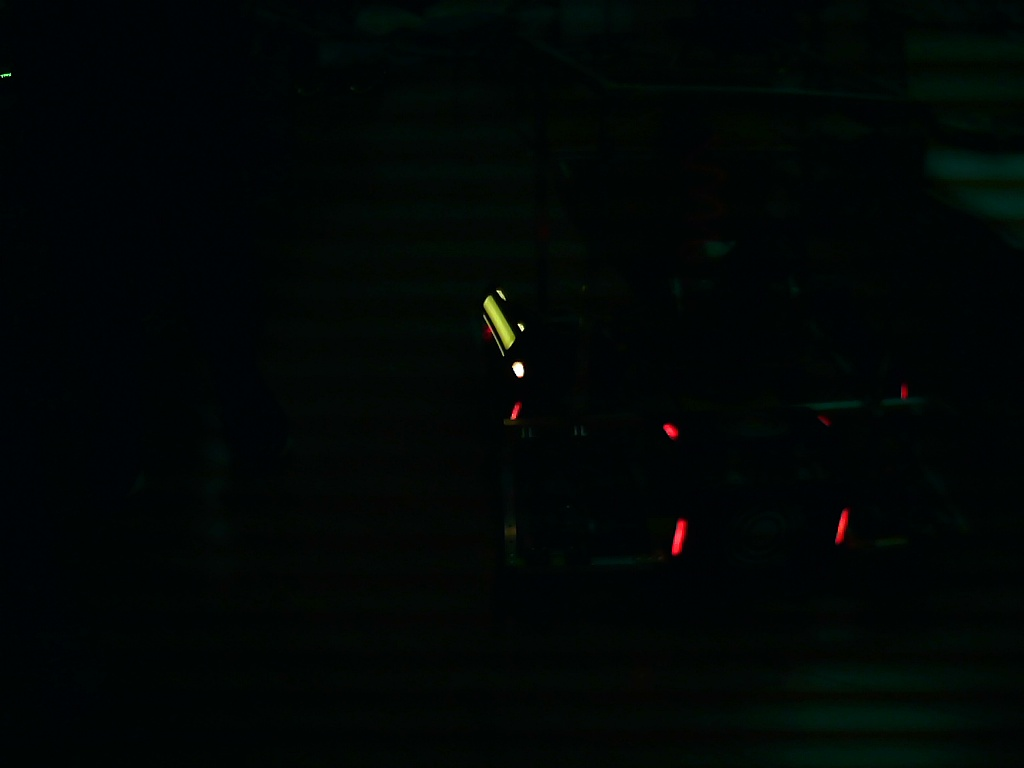lamp: (667, 516, 685, 560), (835, 507, 853, 550)
